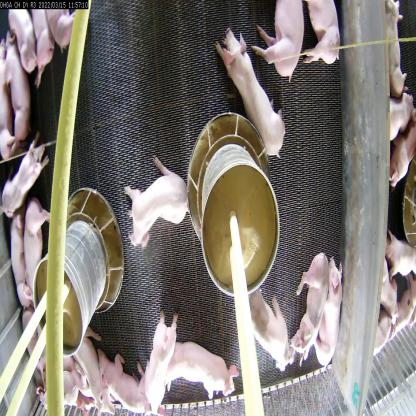Pig: (214, 16, 286, 162), (120, 160, 193, 258), (165, 336, 243, 402), (17, 192, 60, 308), (0, 134, 49, 233), (291, 244, 329, 368), (137, 301, 178, 409), (259, 1, 307, 85), (90, 346, 147, 415), (250, 291, 294, 376), (9, 219, 39, 318), (316, 252, 340, 368), (307, 0, 344, 69)
